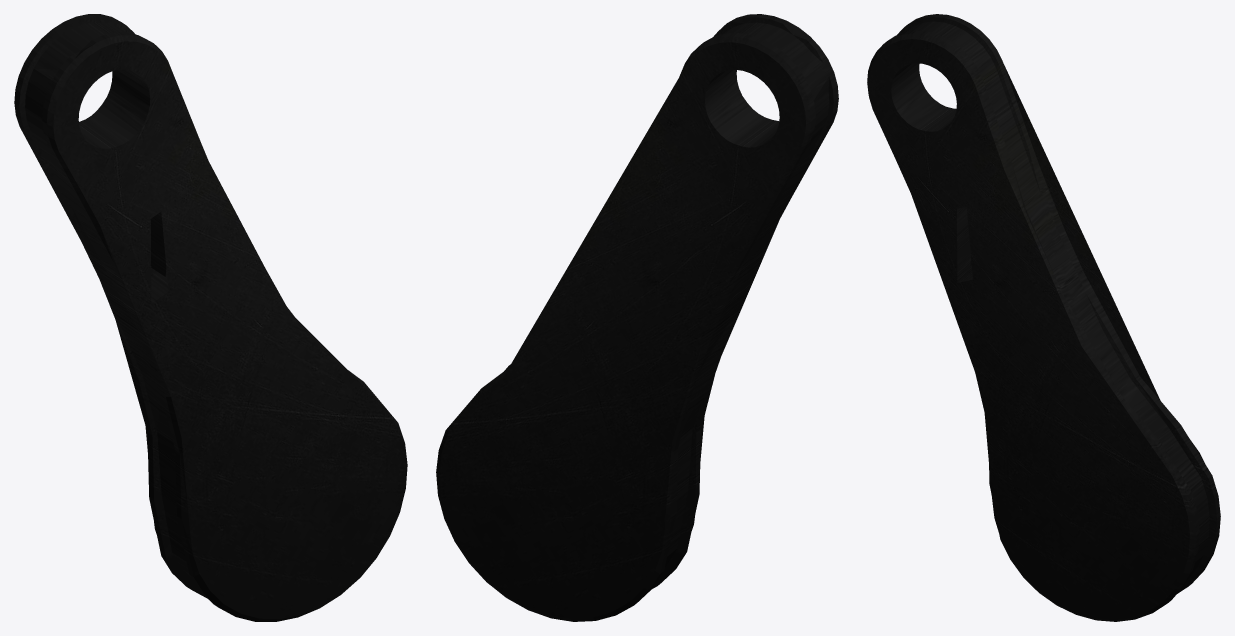
Rendered from conRod4.obj.
3 renders of one model, left to right at view 1: azimuth 30°, elevation 25°; view 2: azimuth 150°, elevation 25°; view 3: azimuth 330°, elevation 25°, orthographic. The views are drawn at different scales.
Parts seen in each view (by area): view 1: Con4_Connecting_Rod_Circle.000; view 2: Con4_Connecting_Rod_Circle.000; view 3: Con4_Connecting_Rod_Circle.000.
Boxes of the visible parts, bbox=[...] form: Con4_Connecting_Rod_Circle.000: bbox=[14, 14, 407, 621]; Con4_Connecting_Rod_Circle.000: bbox=[436, 14, 838, 621]; Con4_Connecting_Rod_Circle.000: bbox=[867, 14, 1220, 621].
Bounding box in the file's own units: 3.35 × 5.42 × 0.6857.
Materials: 1 (1 with a texture image).
